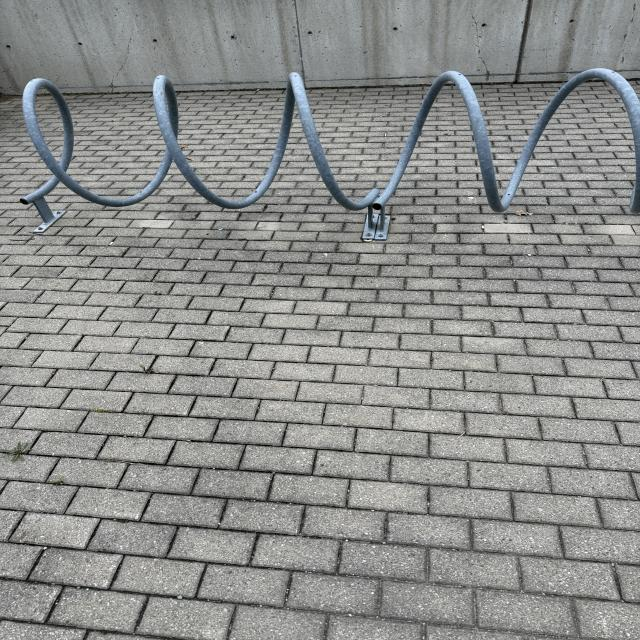Bicycle Rack: (22, 70, 640, 230)
